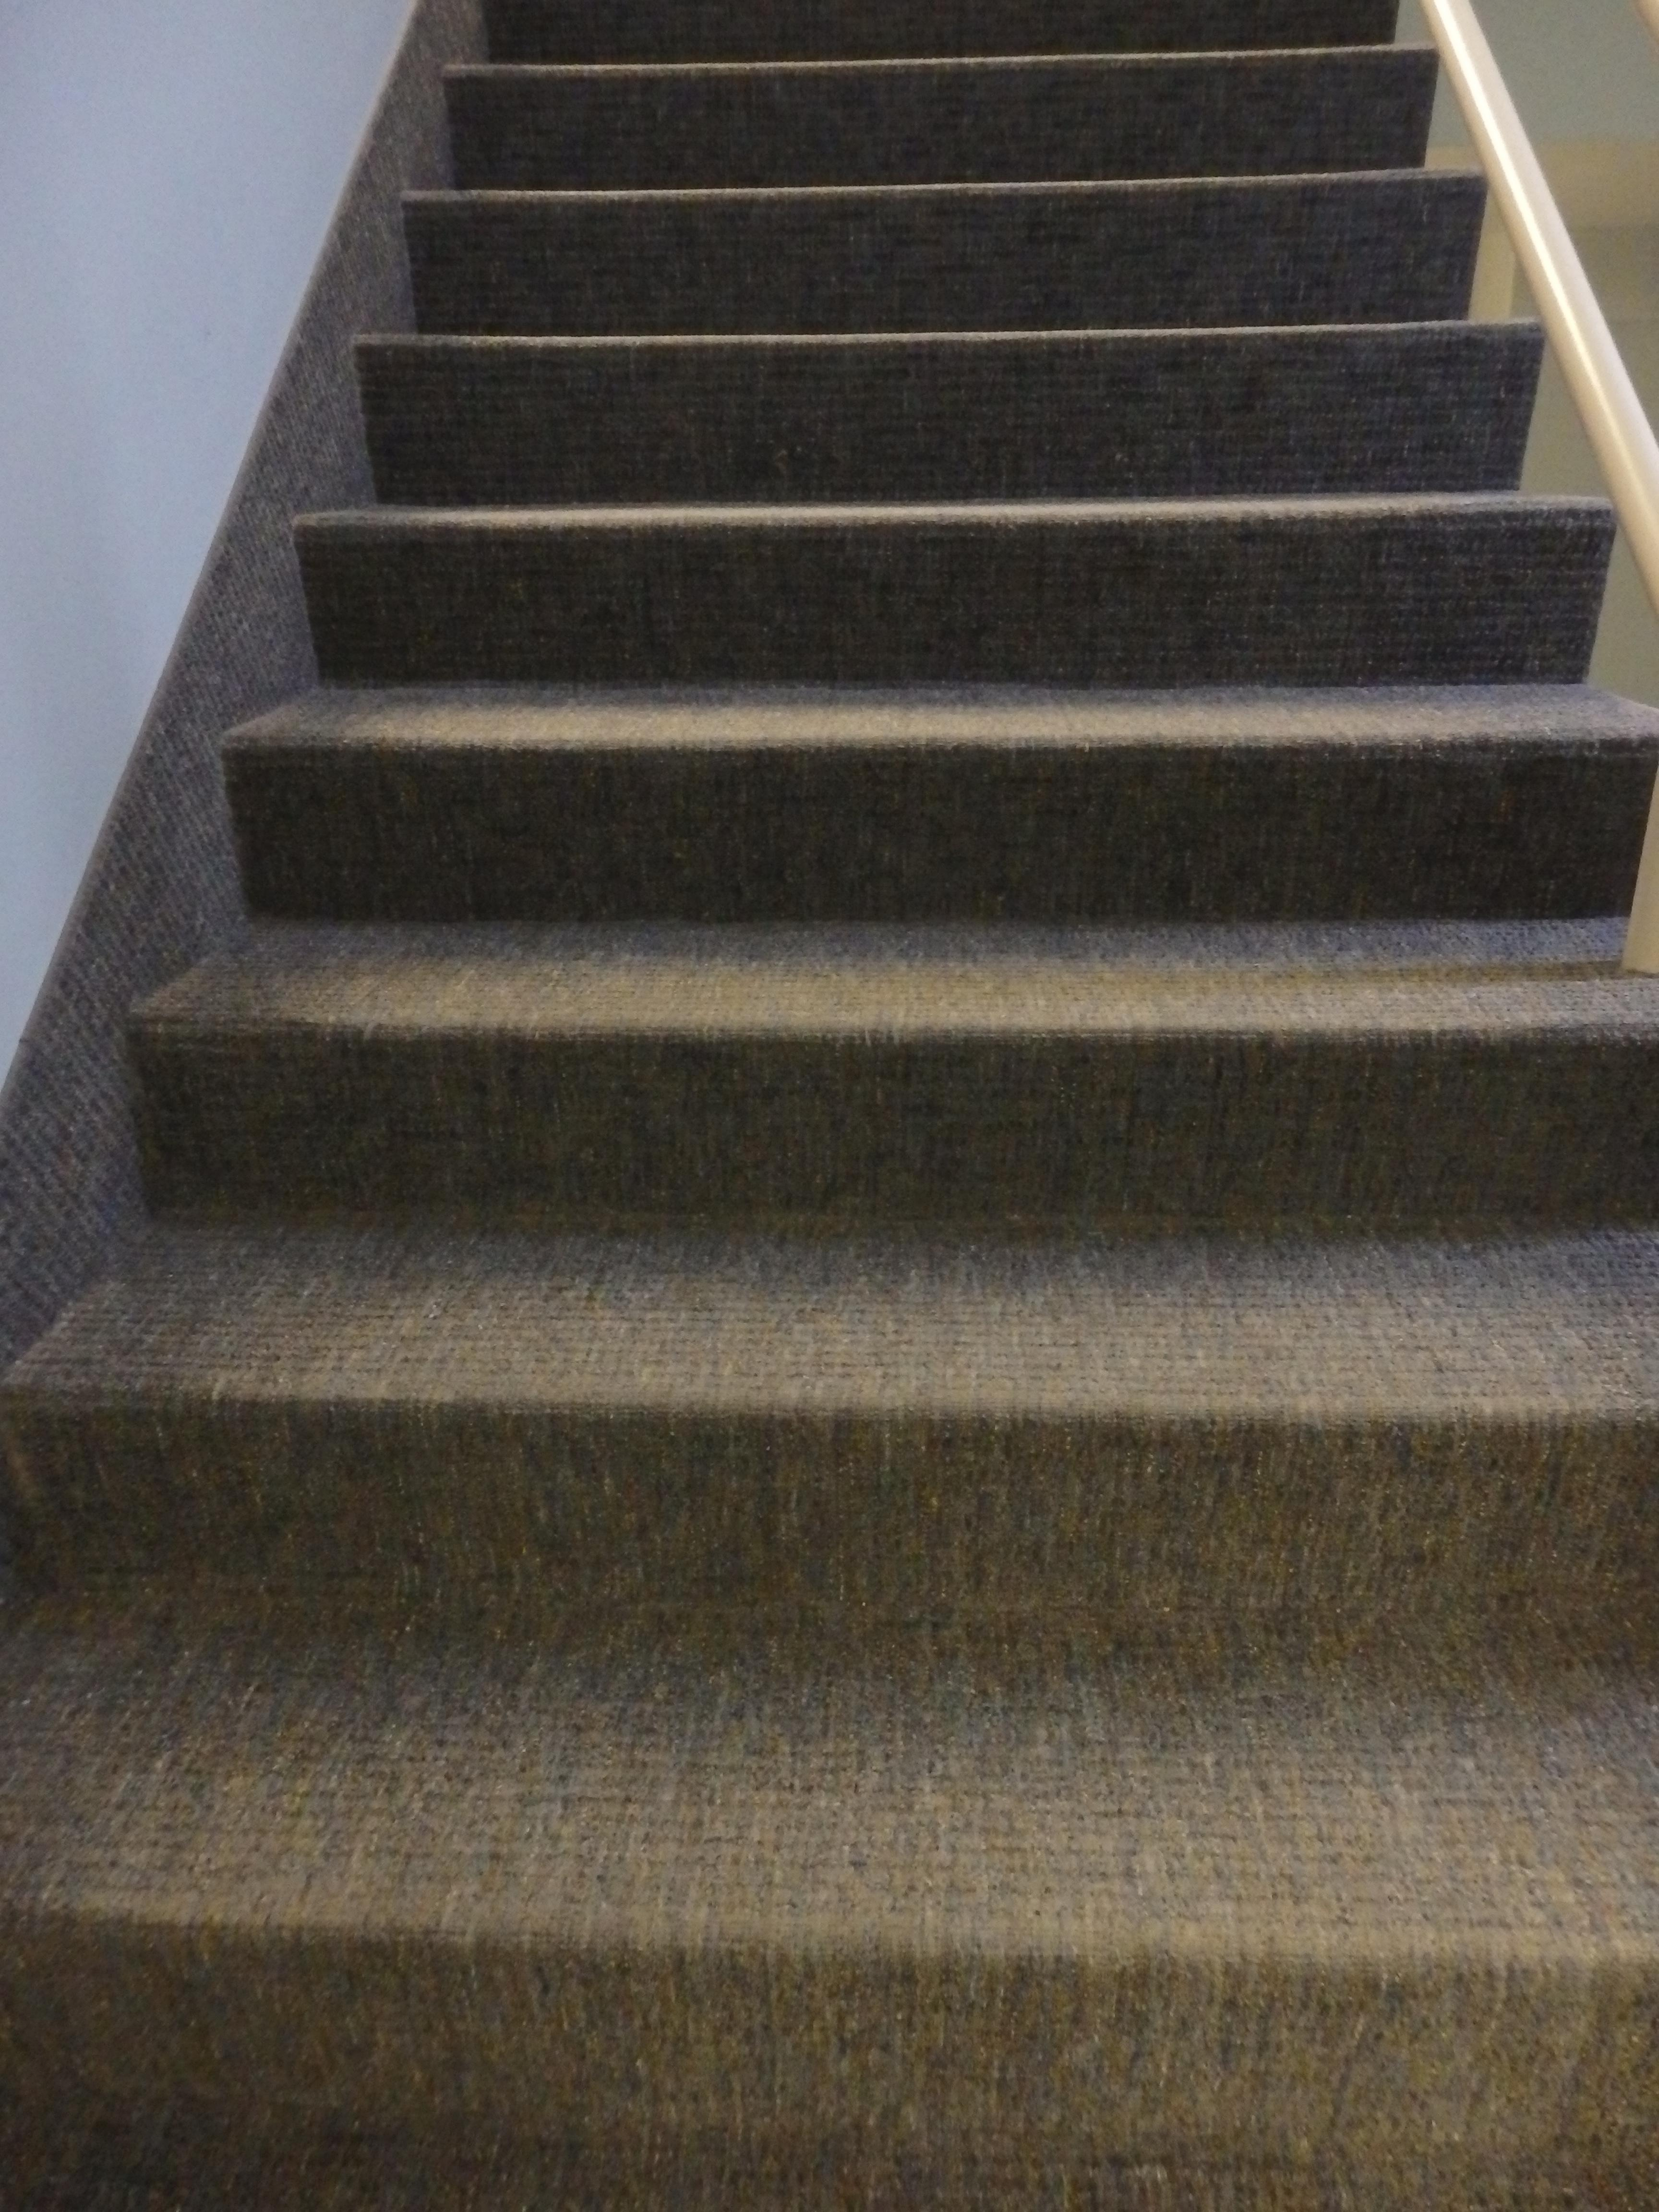stairs_up: (181, 42, 1614, 2019)
